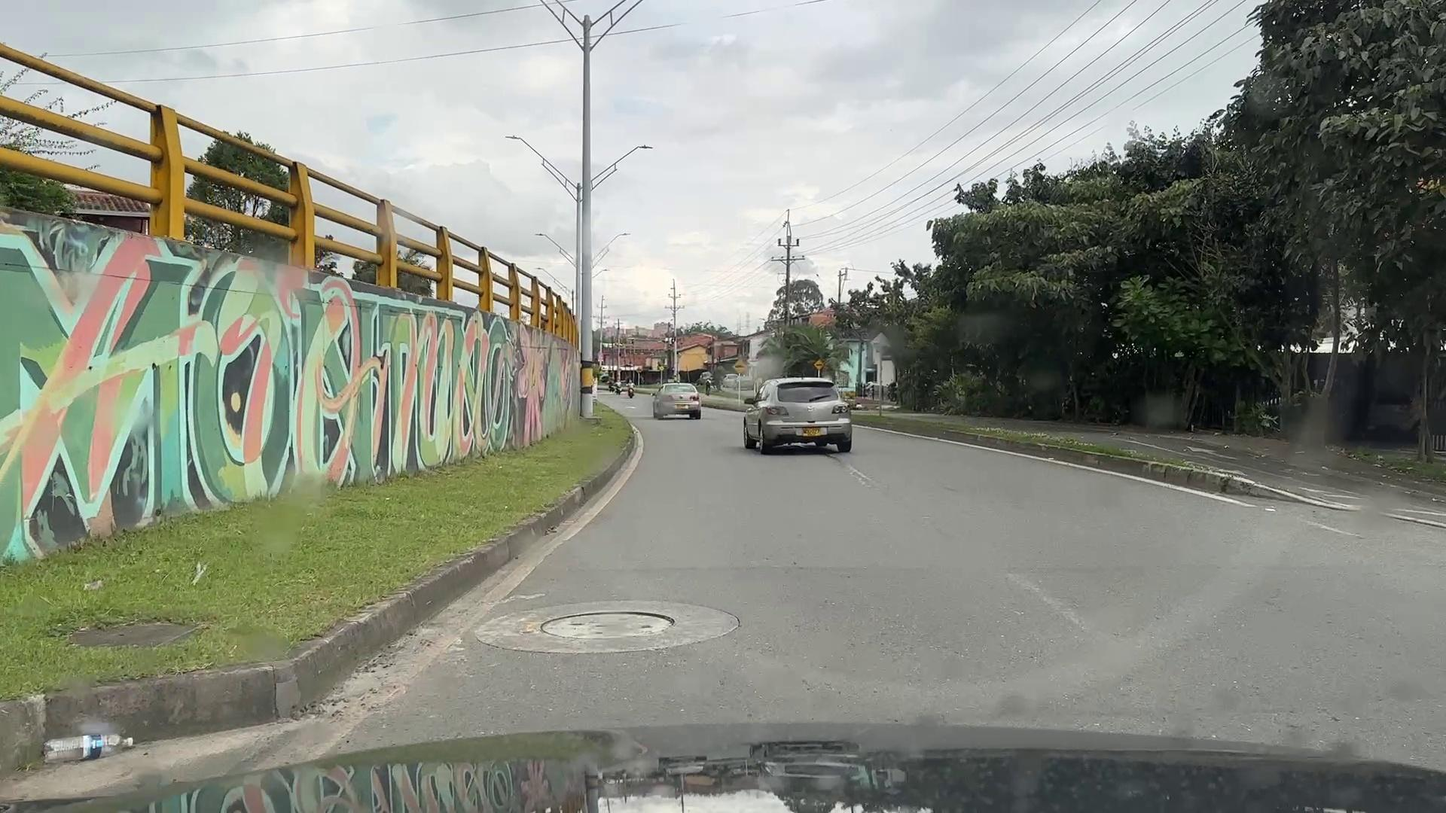registro: (541, 612, 673, 638)
